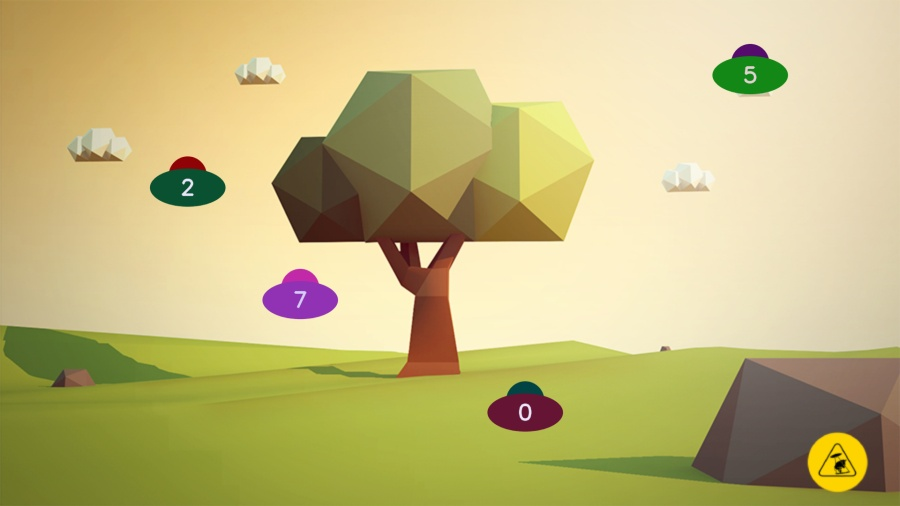ufo: (486, 380, 564, 433), (149, 155, 227, 208), (261, 268, 339, 320), (711, 43, 789, 95)
